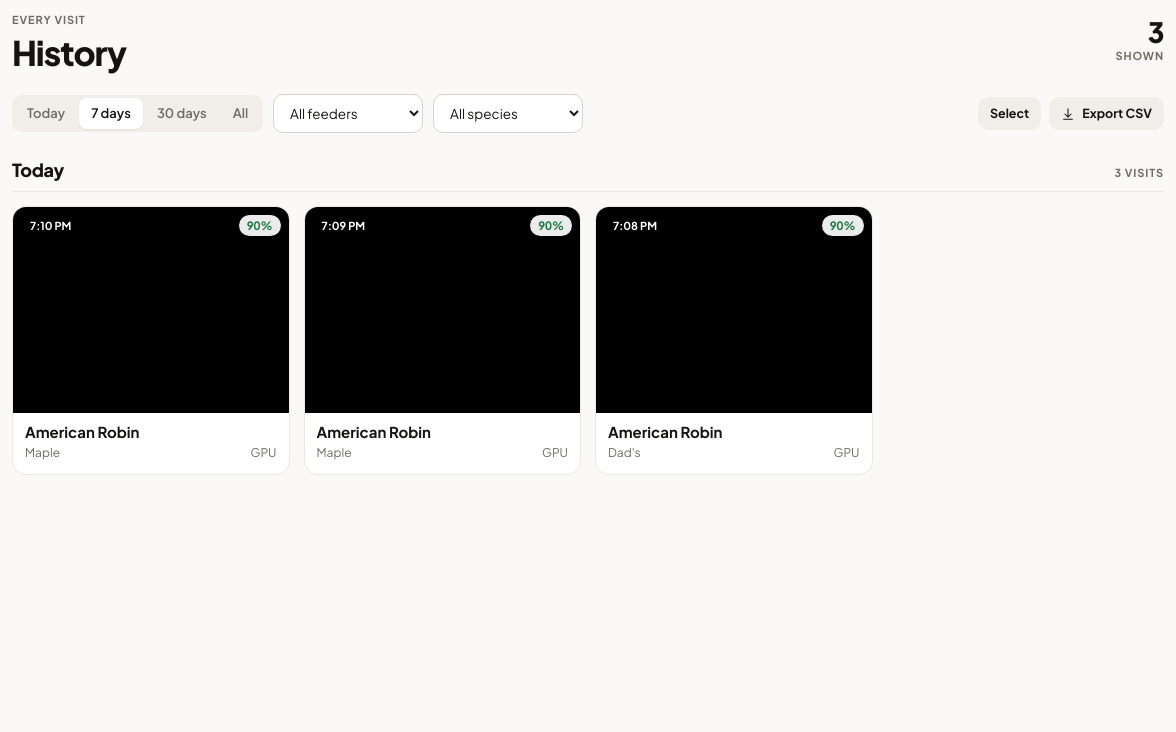
Test: History select mode › deletes the ticked sightings after a confirm, then reloads
This screenshot has width=1176, height=732.
What coordinates should you click on to do the following:
click the button "Select"
I would click on:
 (1010, 114)
Its box is top-left (978, 97), bottom-right (1041, 130).
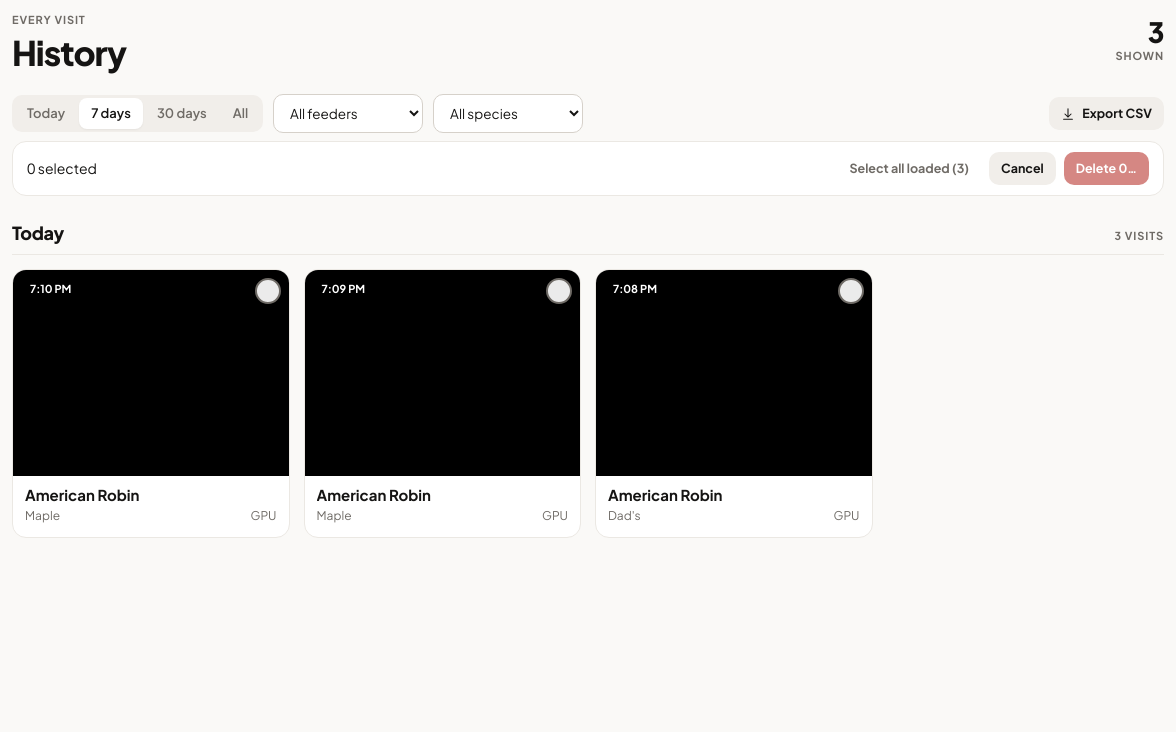
What coordinates should you click on to do the following:
click the button "7:10 PM American Robin Maple GPU"
I would click on:
 (151, 403)
Its box is top-left (12, 268), bottom-right (290, 538).
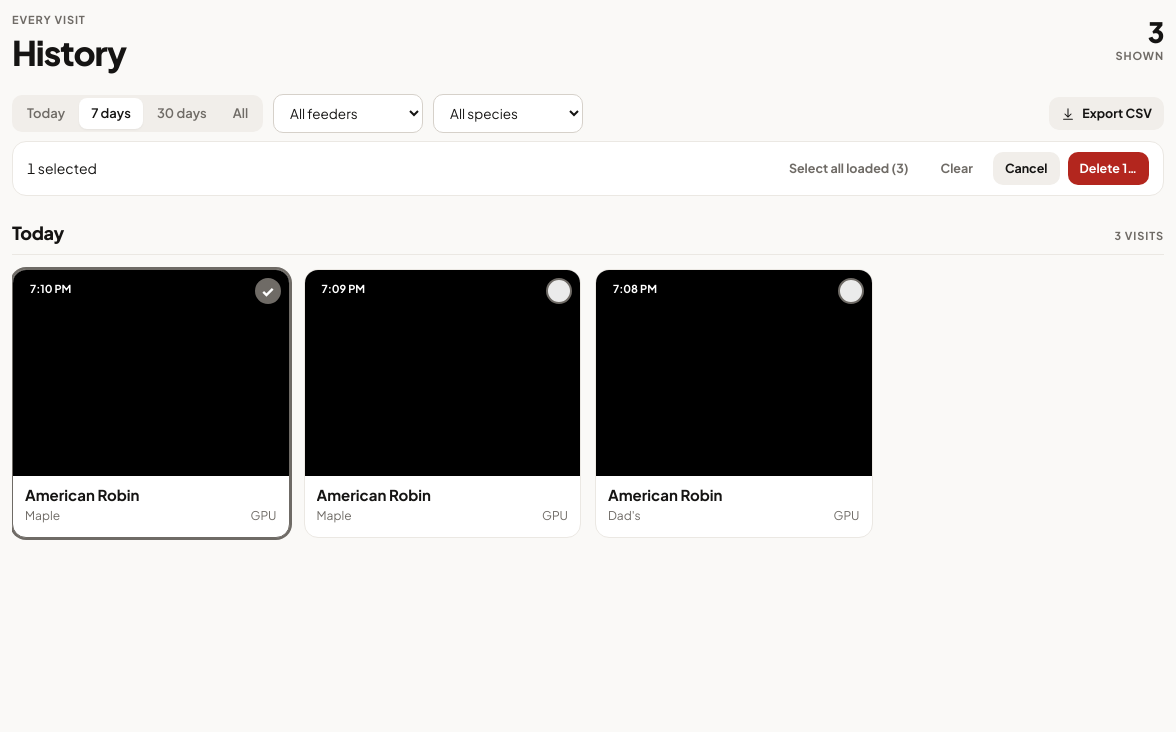
What coordinates should you click on to do the following:
click the button "7:08 PM American Robin Dad's GPU"
I would click on:
 (734, 403)
Its box is top-left (595, 268), bottom-right (872, 538).
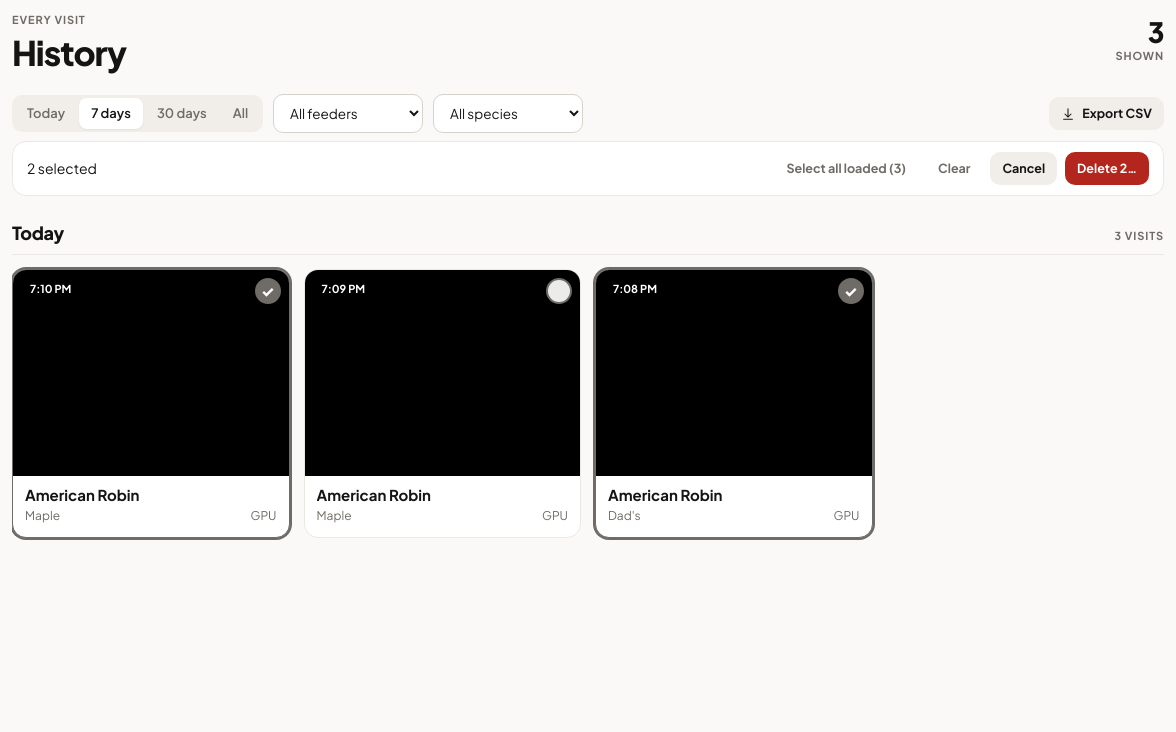
What coordinates should you click on to do the following:
click the button "Delete 2…"
I would click on:
 (1107, 169)
Its box is top-left (1065, 152), bottom-right (1149, 185).
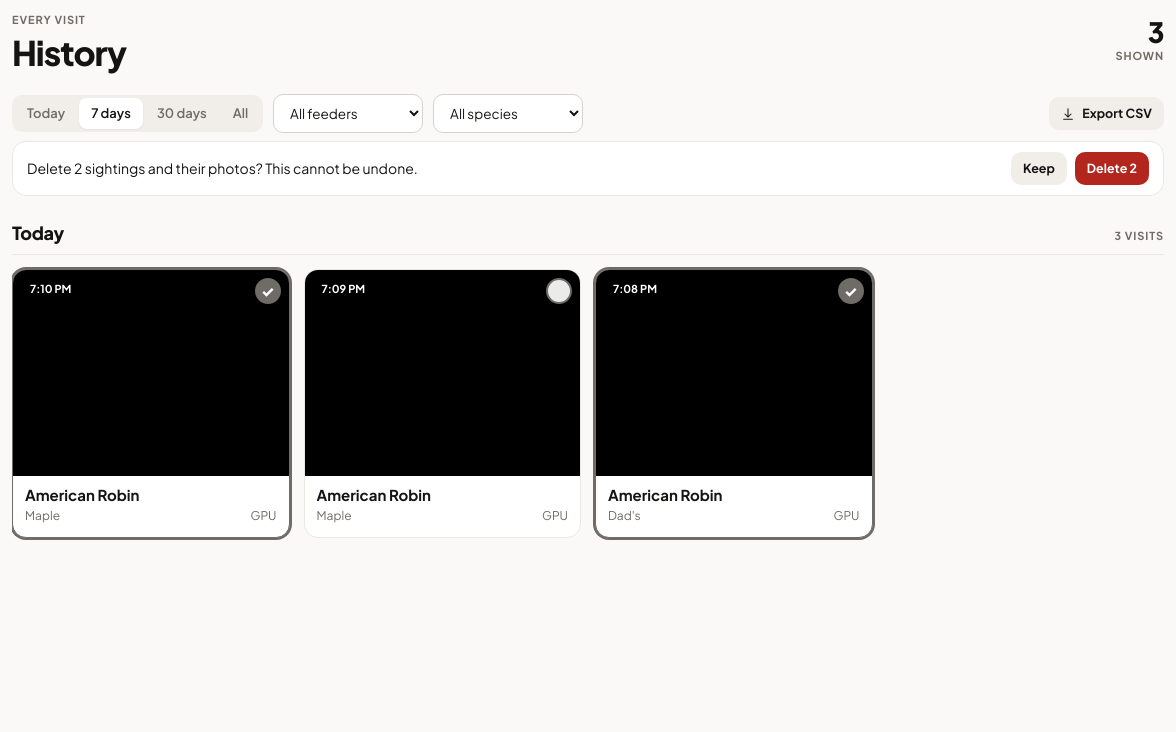
Check: the text "Delete 2 sightings and their photos? This cannot be undone." is shown, box top-left (27, 158), bottom-right (418, 179)
What coordinates should you click on to do the following:
click the button "Delete 2"
I would click on:
 (1112, 169)
Its box is top-left (1075, 152), bottom-right (1149, 185).
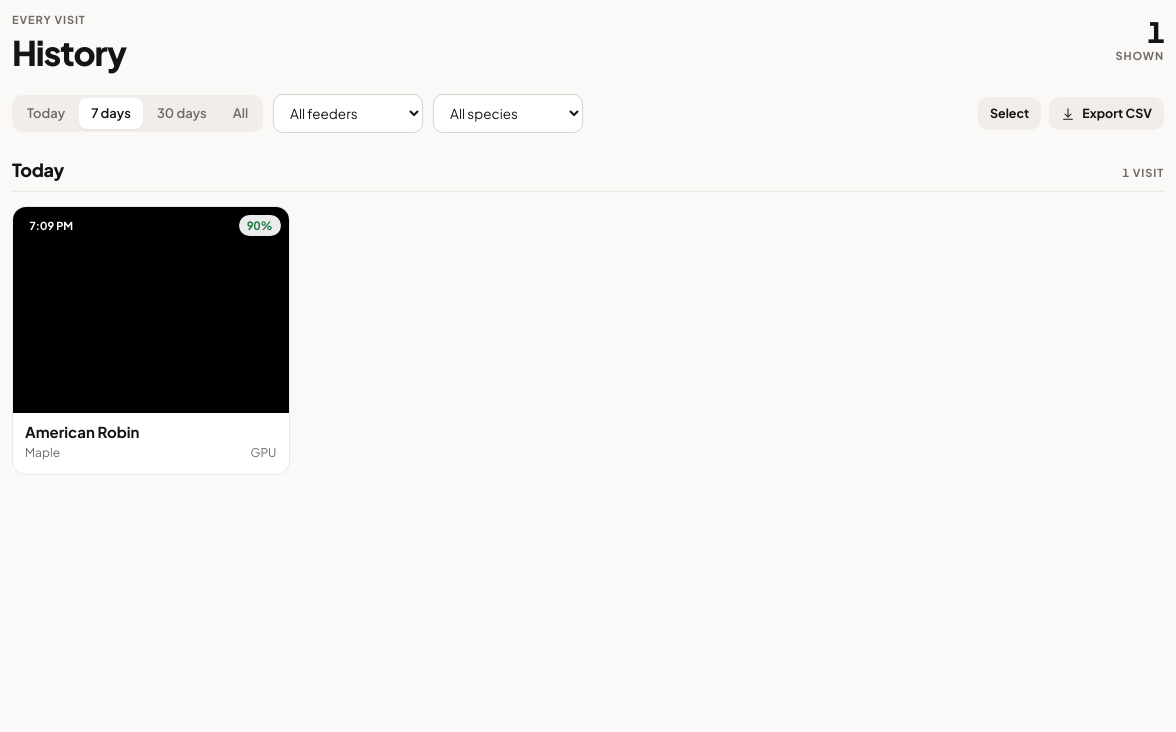
Check: the number of buttons "7:09 PM 90% American Robin Maple GPU" is 1, box top-left (12, 206), bottom-right (290, 475)
